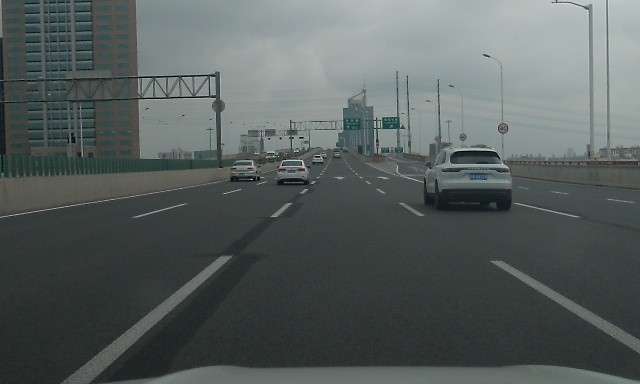car: (424, 147, 512, 211), (276, 160, 310, 185), (230, 160, 261, 182), (312, 155, 323, 165), (266, 152, 275, 160), (333, 152, 341, 159), (320, 153, 327, 159)
